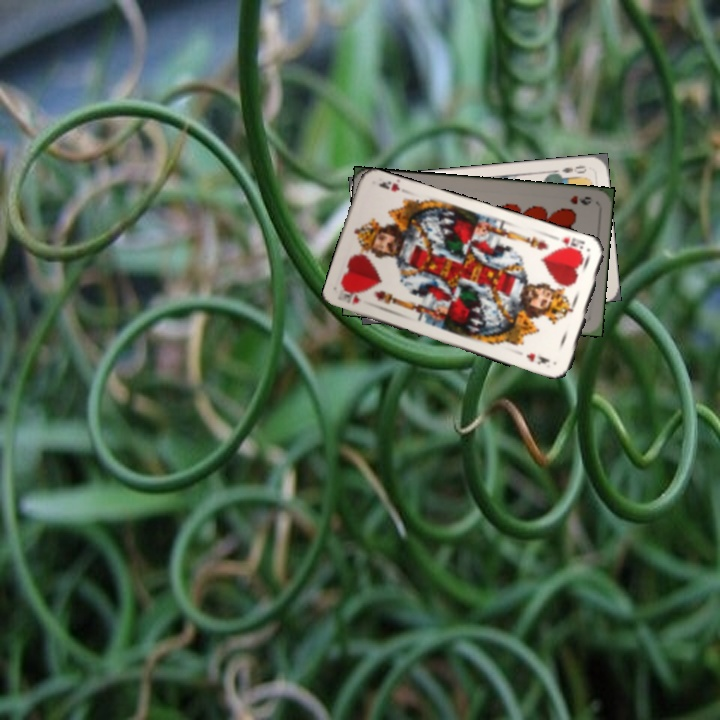EO: (552, 161, 589, 180)
H9: (566, 192, 594, 208)
HK: (557, 233, 587, 257), (338, 288, 362, 307)
